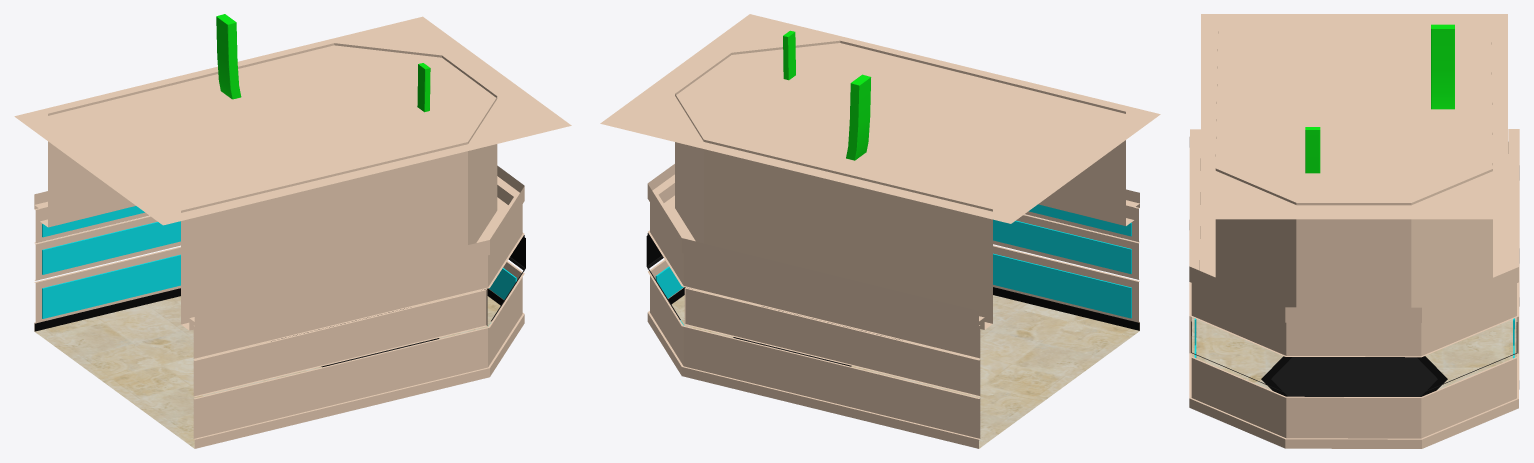
Rendered from 24_Room.FBX.
3 views of the same model, side by side, from view 1: azimuth 30°, elevation 25°; view 2: azimuth 150°, elevation 25°; view 3: azimuth 270°, elevation 25° (orthographic). The views are drawn at different scales.
Parts seen in each view (by area): view 1: 24_Room; view 2: 24_Room; view 3: 24_Room.
Part boxes in pixels (x1,y1,x2,y2): 24_Room: [14, 14, 571, 448]; 24_Room: [600, 14, 1160, 448]; 24_Room: [1189, 14, 1519, 448].
Size of the model in its own units: 14832 by 10518 by 10086.
